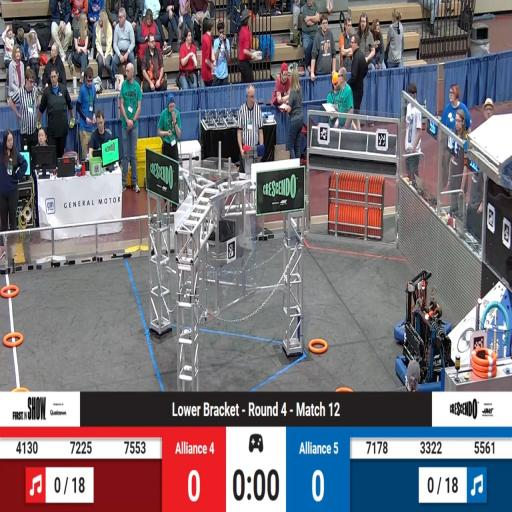robot: (396, 269, 452, 391)
